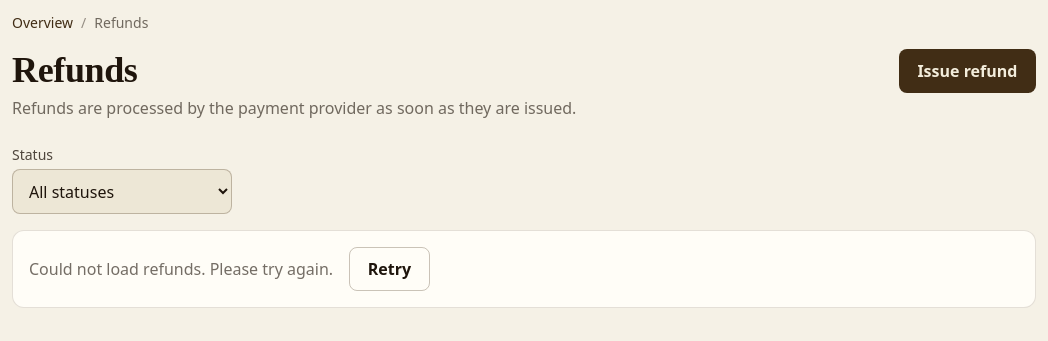
Scenario: AdminRefundsPage › shows an error state with retry when the list fails to load
Click the button "Retry".
click(389, 269)  # box [349,247,430,291]
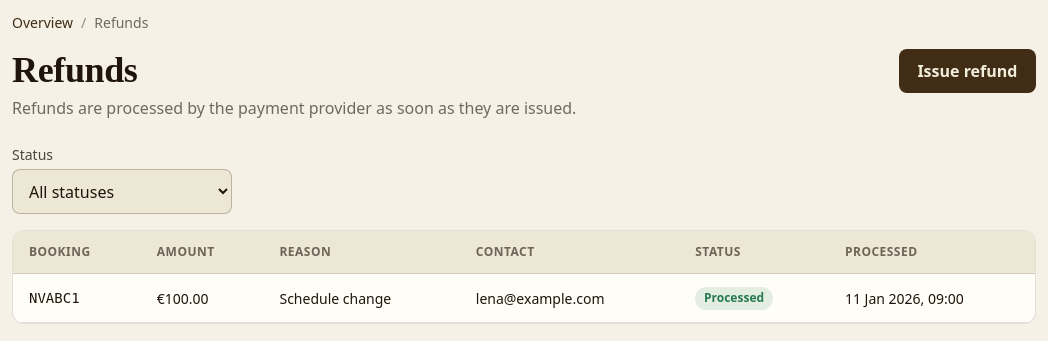
Expected: the text "NVABC1" is shown, [13,274,141,322]
